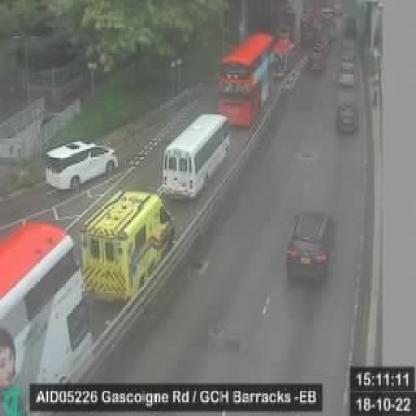Bus: (0, 218, 97, 404), (161, 115, 233, 199), (218, 32, 274, 129)
Car: (81, 187, 178, 302), (282, 205, 337, 287), (44, 141, 118, 194), (334, 101, 358, 136), (306, 45, 326, 76), (337, 62, 355, 88)
